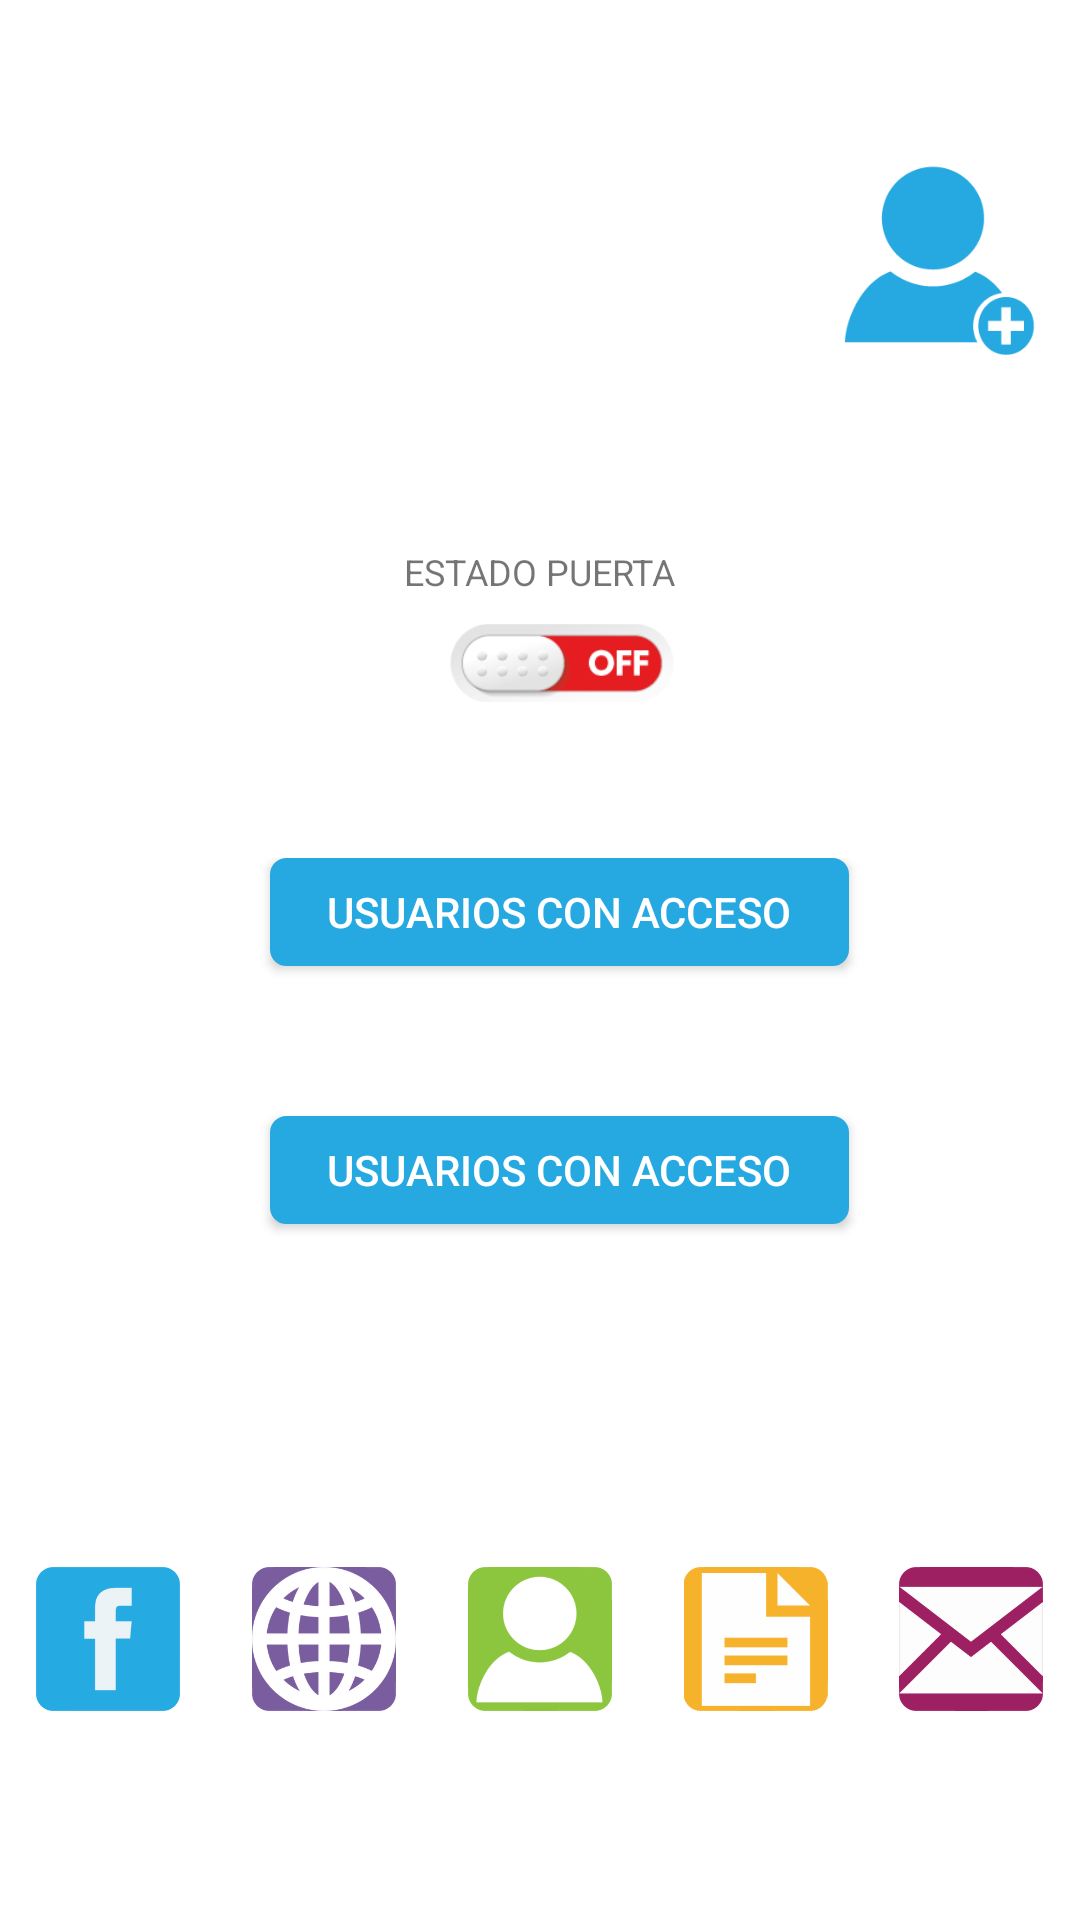

Screen size 1080px×1920px. Icon name, then its box in pixels as box=[x1, y1, x2, y2]:
about: box=[468, 1567, 612, 1711]
iconoplus: box=[845, 166, 1034, 355]
mail: box=[899, 1567, 1043, 1711]
works: box=[684, 1567, 828, 1711]
world: box=[252, 1567, 396, 1711]
